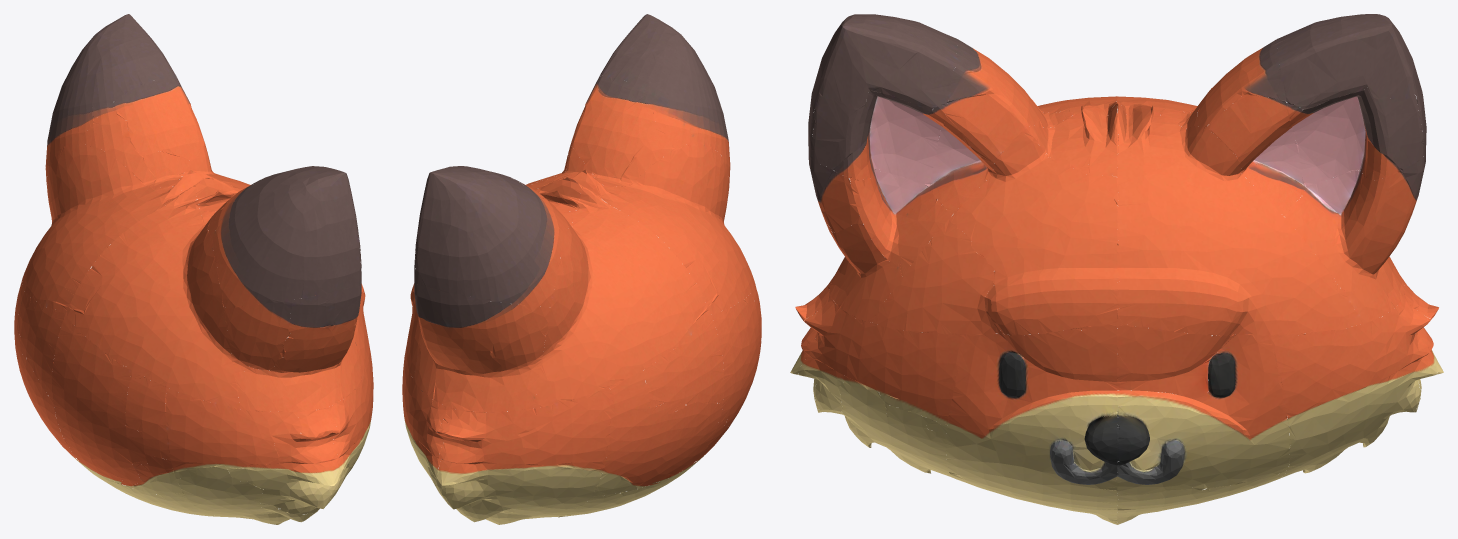
The model's file is Fox_draco.glb.
The picture shows the model from 3 angles, left to right: view 1: azimuth 30°, elevation 25°; view 2: azimuth 150°, elevation 25°; view 3: azimuth 270°, elevation 25°; orthographic projection. The views are drawn at different scales.
Visible parts, largest first — view 1: tripo_node_0831966a-58a0-46a3-abdd-5be36aa4f765; view 2: tripo_node_0831966a-58a0-46a3-abdd-5be36aa4f765; view 3: tripo_node_0831966a-58a0-46a3-abdd-5be36aa4f765.
Boxes of the visible parts, left/top/right/bottom form: tripo_node_0831966a-58a0-46a3-abdd-5be36aa4f765: left=14, top=14, right=373, bottom=524; tripo_node_0831966a-58a0-46a3-abdd-5be36aa4f765: left=402, top=14, right=761, bottom=524; tripo_node_0831966a-58a0-46a3-abdd-5be36aa4f765: left=790, top=14, right=1443, bottom=524.
Size of the model in its own units: 0.6848 by 0.8725 by 0.9984.
Materials: 1 (1 with a texture image).
